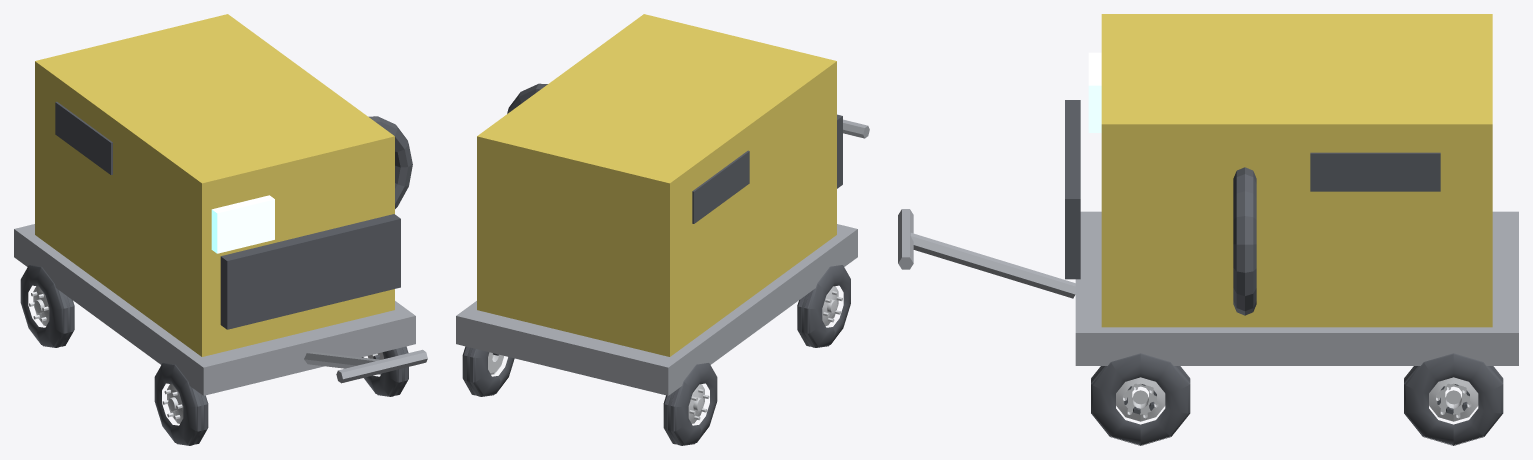
The model's file is AirportPowerCart.glb.
3 renders of one model, left to right at view 1: azimuth 30°, elevation 25°; view 2: azimuth 150°, elevation 25°; view 3: azimuth 270°, elevation 25°, orthographic. The views are drawn at different scales.
Parts seen in each view (by area): view 1: ground-power-cart, wheel-lbdark, wheel-lfdark, wheel-rfdark, wheel-lfalloy, wheel-lballoy; view 2: ground-power-cart, wheel-lbdark, wheel-lfdark, wheel-rbdark, wheel-lballoy, wheel-lfalloy; view 3: ground-power-cart, wheel-rfdark, wheel-rbdark, wheel-rfalloy, wheel-rballoy.
Part boxes in pixels (<box>): ground-power-cart: <box>14,14,427,395</box>; wheel-lbdark: <box>20,265,74,347</box>; wheel-lfdark: <box>154,363,208,445</box>; wheel-rfdark: <box>362,346,408,396</box>; wheel-lfalloy: <box>162,384,183,423</box>; wheel-lballoy: <box>29,286,49,325</box>; ground-power-cart: <box>456,14,869,395</box>; wheel-lbdark: <box>663,363,717,445</box>; wheel-lfdark: <box>797,265,850,347</box>; wheel-rbdark: <box>462,346,514,396</box>; wheel-lballoy: <box>688,384,709,423</box>; wheel-lfalloy: <box>822,286,842,325</box>; ground-power-cart: <box>898,14,1518,365</box>; wheel-rfdark: <box>1091,353,1190,445</box>; wheel-rbdark: <box>1404,353,1503,445</box>; wheel-rfalloy: <box>1116,377,1165,421</box>; wheel-rballoy: <box>1429,377,1478,421</box>.
Bounding box in the file's own units: 1.17 × 1.06 × 1.88.
